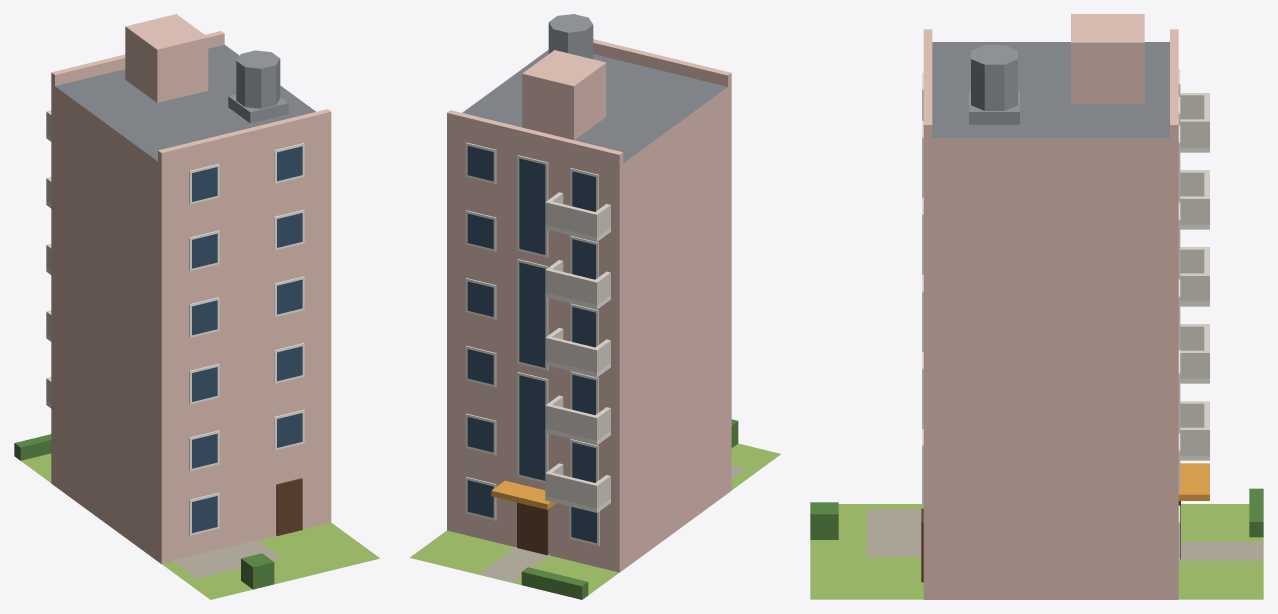
The picture shows the model from 3 angles, left to right: view 1: azimuth 30°, elevation 25°; view 2: azimuth 150°, elevation 25°; view 3: azimuth 270°, elevation 25°; orthographic projection. The views are drawn at different scales.
Visible parts, largest first — view 1: walls, roof, window_glass (×11), stair_bulkhead, lawn, parapet (×2), water_tank, patio, door, tree_spot, tank_base, hedge; view 2: walls, window_glass (×15), parapet (×7), roof, stair_bulkhead, lawn, window_frame (×3), water_tank, door, hedge, path, canopy; view 3: walls, roof, lawn, parapet (×7), stair_bulkhead, water_tank, patio, path, canopy, tree_spot, tank_base, hedge.
Part boxes in pixels (x1=…): walls: x1=51, y1=84, x2=331, y2=563; roof: x1=55, y1=44, x2=315, y2=161; window_glass (×11): x1=192, y1=146, x2=302, y2=532; stair_bulkhead: x1=125, y1=14, x2=208, y2=102; lawn: x1=21, y1=453, x2=379, y2=599; parapet (×2): x1=51, y1=31, x2=331, y2=164; water_tank: x1=236, y1=50, x2=280, y2=108; patio: x1=172, y1=540, x2=280, y2=578; door: x1=276, y1=478, x2=302, y2=535; tree_spot: x1=241, y1=553, x2=274, y2=589; tank_base: x1=228, y1=94, x2=288, y2=123; hedge: x1=14, y1=434, x2=51, y2=460; walls: x1=447, y1=84, x2=731, y2=572; window_glass (×15): x1=467, y1=146, x2=596, y2=543; parapet (×7): x1=447, y1=39, x2=731, y2=508; roof: x1=462, y1=50, x2=727, y2=162; stair_bulkhead: x1=522, y1=50, x2=606, y2=140; lawn: x1=410, y1=443, x2=780, y2=594; window_frame (×3): x1=517, y1=155, x2=548, y2=482; water_tank: x1=548, y1=14, x2=593, y2=59; door: x1=517, y1=502, x2=548, y2=555; hedge: x1=521, y1=567, x2=588, y2=599; path: x1=479, y1=546, x2=549, y2=582; canopy: x1=491, y1=480, x2=556, y2=509; walls: x1=923, y1=138, x2=1178, y2=599; roof: x1=932, y1=42, x2=1169, y2=137; lawn: x1=810, y1=504, x2=1263, y2=599; parapet (×7): x1=923, y1=29, x2=1209, y2=455; stair_bulkhead: x1=1071, y1=14, x2=1144, y2=104; water_tank: x1=971, y1=45, x2=1017, y2=110; patio: x1=867, y1=509, x2=921, y2=556; path: x1=1180, y1=541, x2=1263, y2=560; canopy: x1=1178, y1=463, x2=1209, y2=500; tree_spot: x1=810, y1=502, x2=838, y2=539; tank_base: x1=969, y1=90, x2=1019, y2=124; hedge: x1=1249, y1=488, x2=1263, y2=537.
Bounding box in the file's own units: 8 × 20.4 × 16.
